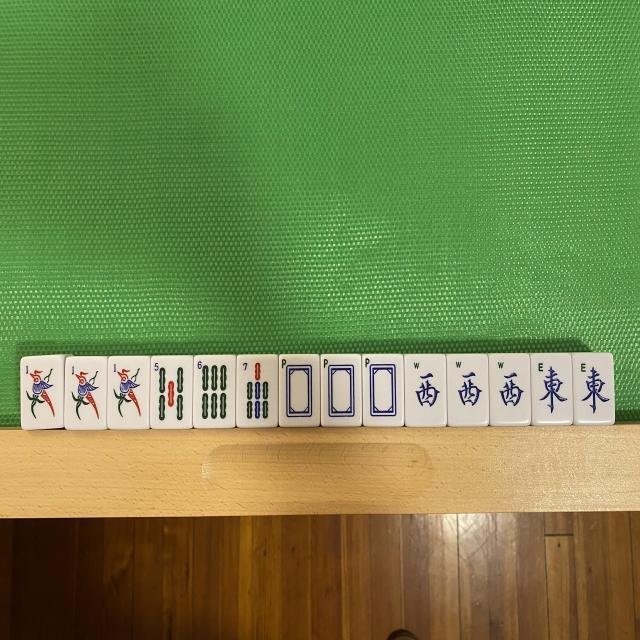hdw: (363, 355, 402, 425), (322, 356, 361, 426), (279, 356, 318, 424)
hwe: (574, 354, 613, 423), (534, 354, 570, 423)
hww: (490, 356, 530, 426), (448, 356, 488, 424), (404, 356, 444, 424)
sb1: (108, 356, 148, 428), (66, 360, 106, 428), (22, 358, 60, 428)
sb5: (151, 357, 192, 427)
sb6: (194, 356, 233, 426)
sb7: (237, 357, 276, 427)
